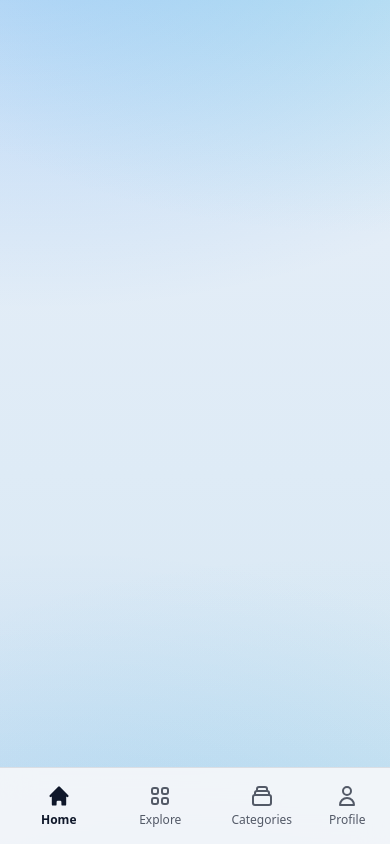
Test: MobileNav › keeps Store out of bottom nav and shows it in profile menu
Step 1. Click the button "Profile" → {"x": 347, "y": 806}, box [312,776,382,836]
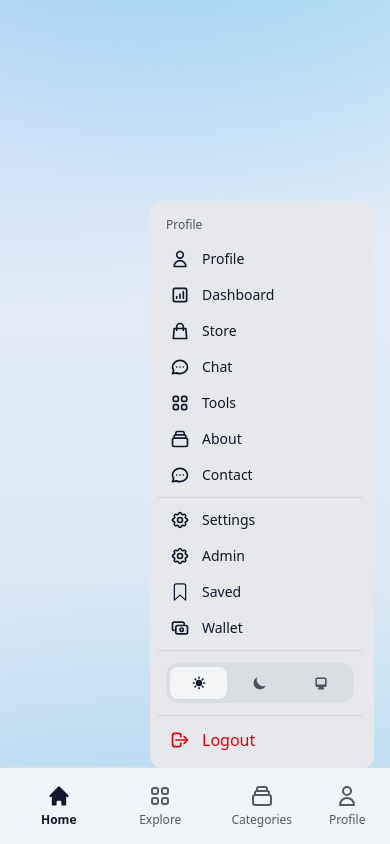
Expected: the menu named "Profile menu" is shown, [150,201,374,768]
Expected: the menu item to "/en/store" is shown, [170,321,237,341]
